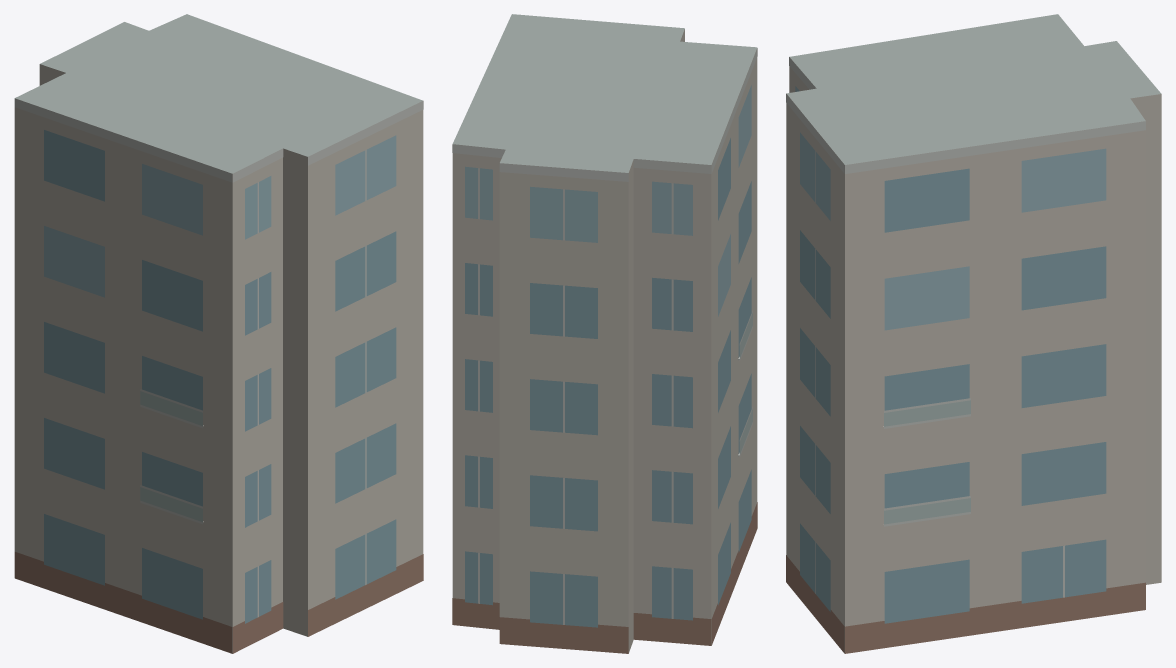
File: survey-upis-32950523.glb
3 renders of one model, left to right at view 1: azimuth 30°, elevation 25°; view 2: azimuth 150°, elevation 25°; view 3: azimuth 270°, elevation 25°, orthographic.
Visible parts, largest first — view 1: survey-upis-32950523.tmp; view 2: survey-upis-32950523.tmp; view 3: survey-upis-32950523.tmp.
Part boxes in pixels (x1,y1,x2,y2): survey-upis-32950523.tmp: (14,14,423,653); survey-upis-32950523.tmp: (452,14,757,653); survey-upis-32950523.tmp: (786,14,1161,653).
Size of the model in its own units: 8.69 by 13.1 by 9.13.
